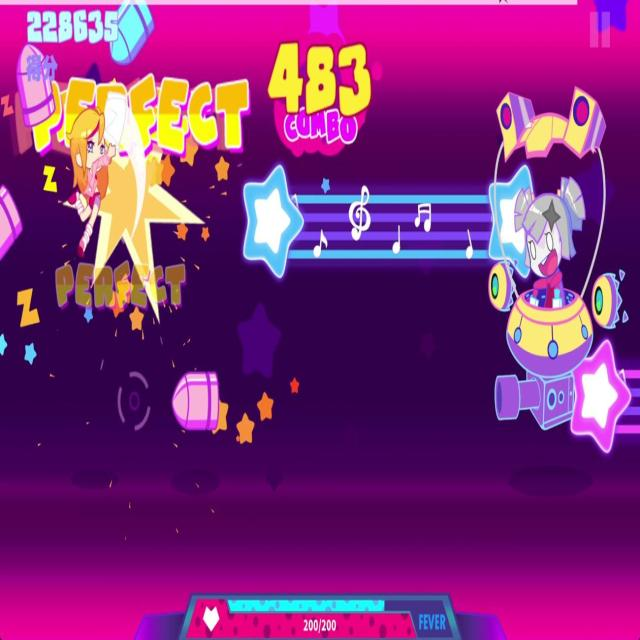hold: (241, 168, 548, 279)
jian: (173, 370, 220, 432)
qiangboss: (492, 86, 633, 438)
